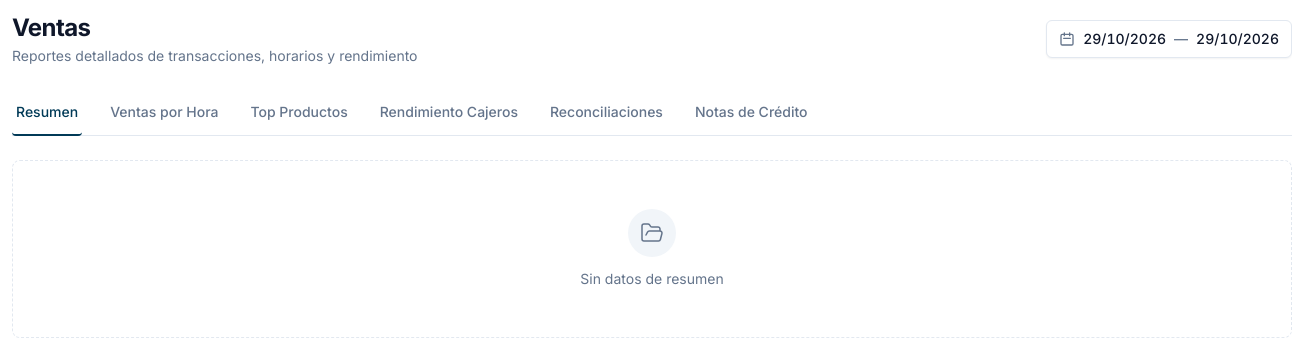
Test: W2 — SalesPage error states › renders empty state on products tab when error
Click the button "Top Productos": (299, 113) x1=246 y1=90 x2=352 y2=136
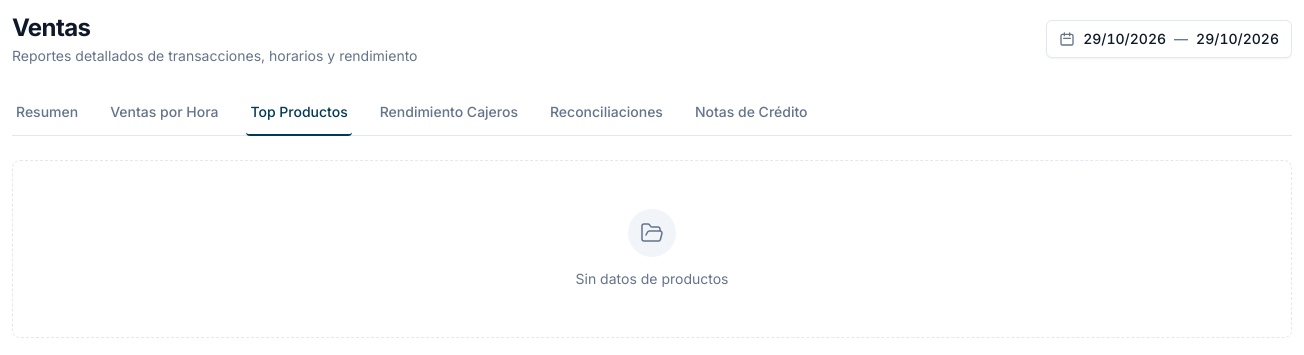
Expected: the text "Sin datos de productos" is shown, x1=576 y1=269 x2=728 y2=289
